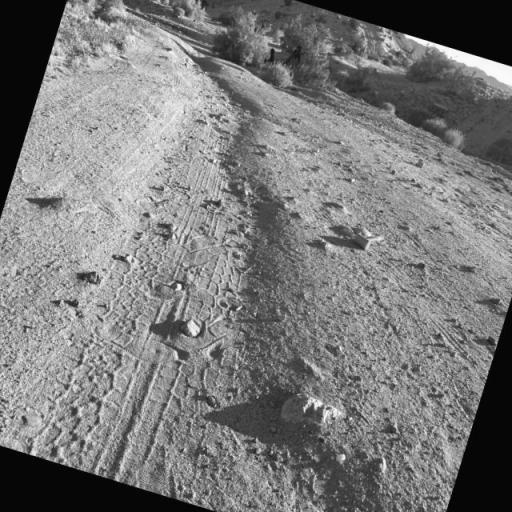mallet: (349, 216, 392, 262)
